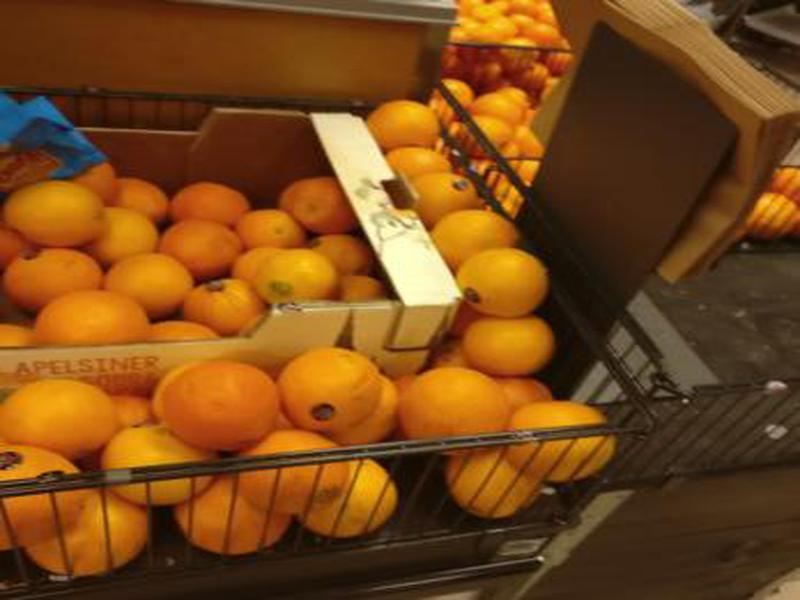orange: (1, 475, 159, 590), (146, 350, 283, 447), (233, 423, 361, 518), (173, 463, 295, 556), (505, 396, 628, 485), (396, 356, 506, 446), (438, 429, 534, 524), (23, 283, 151, 354), (1, 443, 87, 546), (1, 233, 114, 305), (108, 423, 211, 499), (457, 308, 560, 384), (289, 342, 378, 429), (96, 245, 204, 315), (1, 377, 112, 445), (1, 181, 111, 249), (454, 252, 555, 321), (171, 278, 276, 337), (243, 246, 347, 305), (429, 202, 520, 263), (180, 173, 258, 242), (72, 202, 162, 260), (366, 95, 447, 158), (153, 230, 247, 281), (286, 179, 366, 237), (378, 143, 459, 200), (95, 166, 172, 224), (413, 171, 483, 219), (238, 208, 311, 254)
